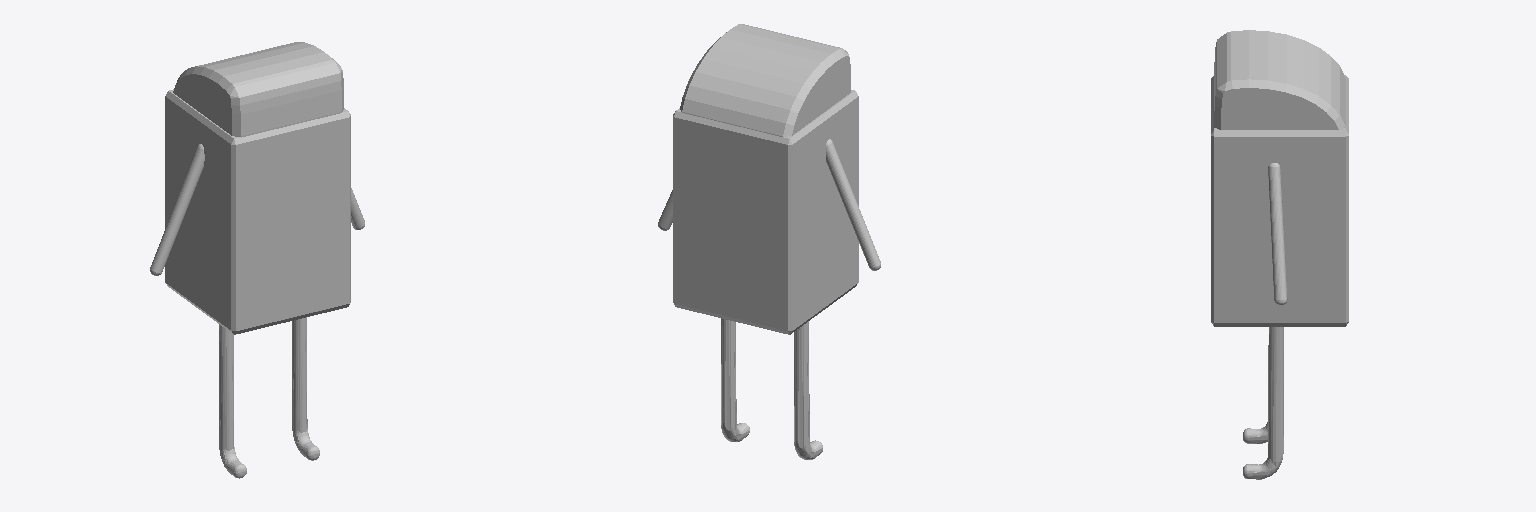
Rendered from trashy.obj.
The picture shows the model from 3 angles: view 1: azimuth 30°, elevation 25°; view 2: azimuth 150°, elevation 25°; view 3: azimuth 270°, elevation 25°; orthographic projection.
Parts seen in each view (by area): view 1: Cube; view 2: Cube; view 3: Cube.
Part boxes in pixels (x1,y1,x2,y2): Cube: (150, 42, 364, 478); Cube: (658, 24, 880, 459); Cube: (1211, 30, 1348, 479).
Size of the model in its own units: 1.51 by 2.68 by 0.8313.